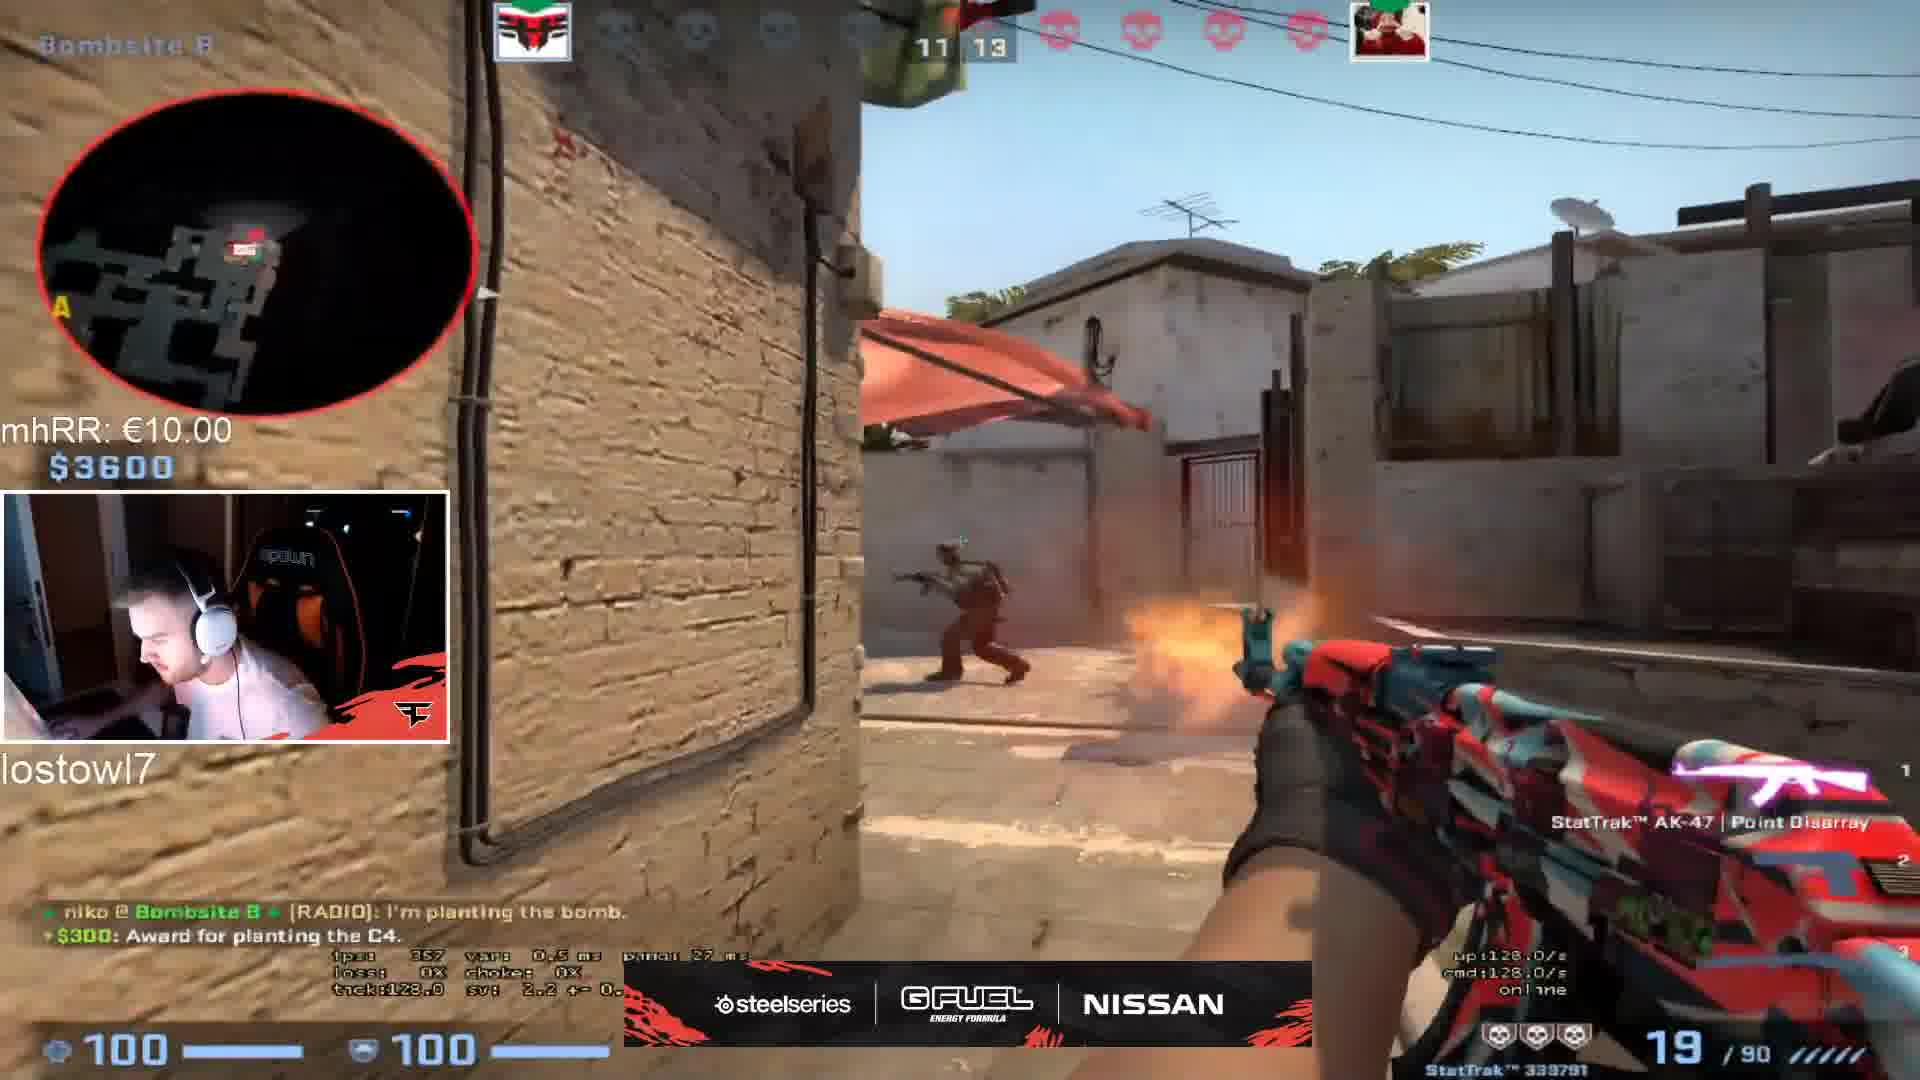enemy: (893, 522, 1033, 692)
